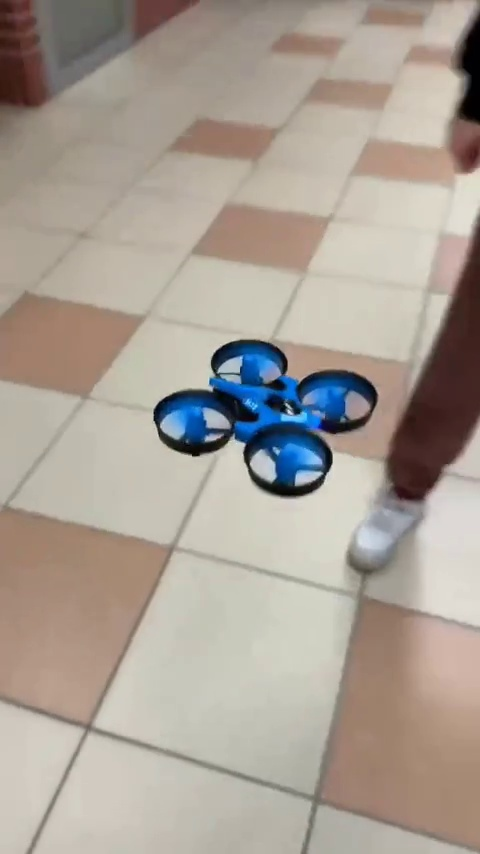drone: (155, 345, 381, 488)
